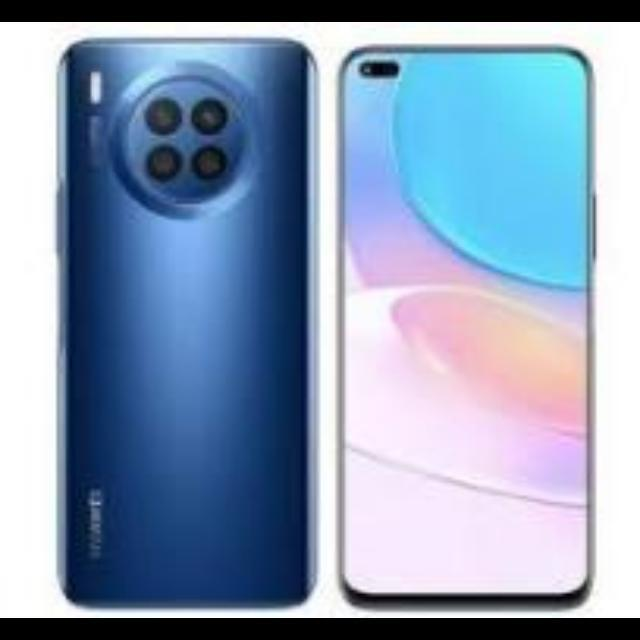phone: (58, 30, 320, 612), (334, 38, 600, 606)
